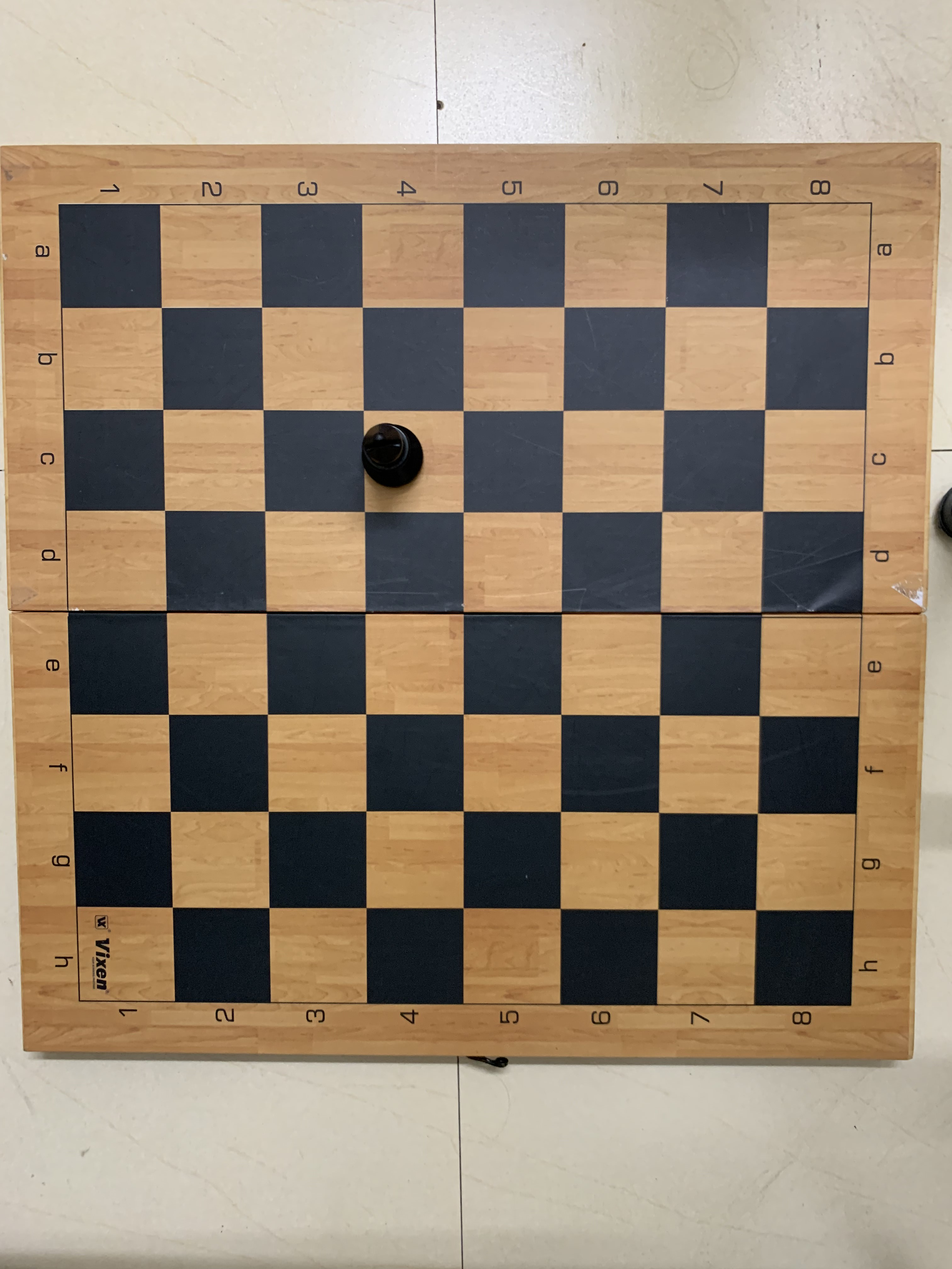black_bishop: (360, 409, 462, 512)
